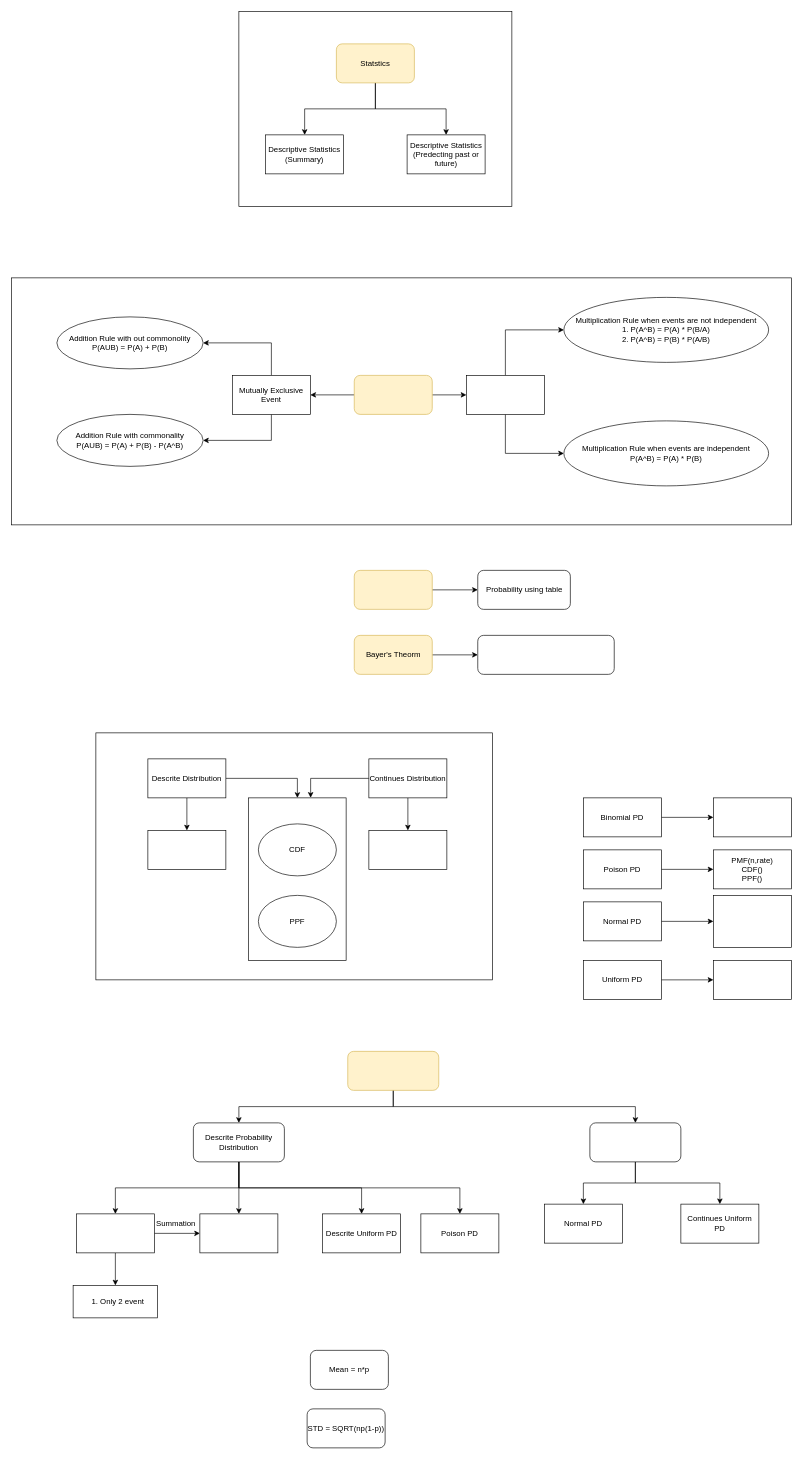
Image size: 803x1459. Some labels were removed from this diagram. The box of each missing label's shape, as (x1, y1, x2, y2) in pixels:
Bernoulli PD: (76, 1213, 154, 1253)
Binamol PD: (199, 1213, 278, 1253)
Continues Probability Distribution: (589, 1122, 681, 1162)
Independent Event: (466, 375, 544, 414)
Marginal probability: (354, 570, 432, 609)
P(H) * P(E | H) = P(E) * P( H | E): (477, 635, 614, 674)
PDF: (368, 830, 447, 869)
PDF(x,loc,scale) CDF(x,loc,scale) PPF(q,loc,scale): (713, 960, 791, 999)
PDF(z) PDF(x,mu,std) PDF(x,loc,scale) CDF(x,mu,std) PPF(q,mu,sigma): (713, 895, 791, 947)
PMF = (): (147, 830, 226, 869)
PMF() CDF() PPF(): (713, 797, 791, 837)
Probability Distribution: (347, 1051, 439, 1090)
Types of event: (354, 375, 432, 414)
